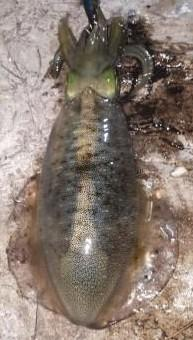Cephalopod: (34, 0, 152, 327)
